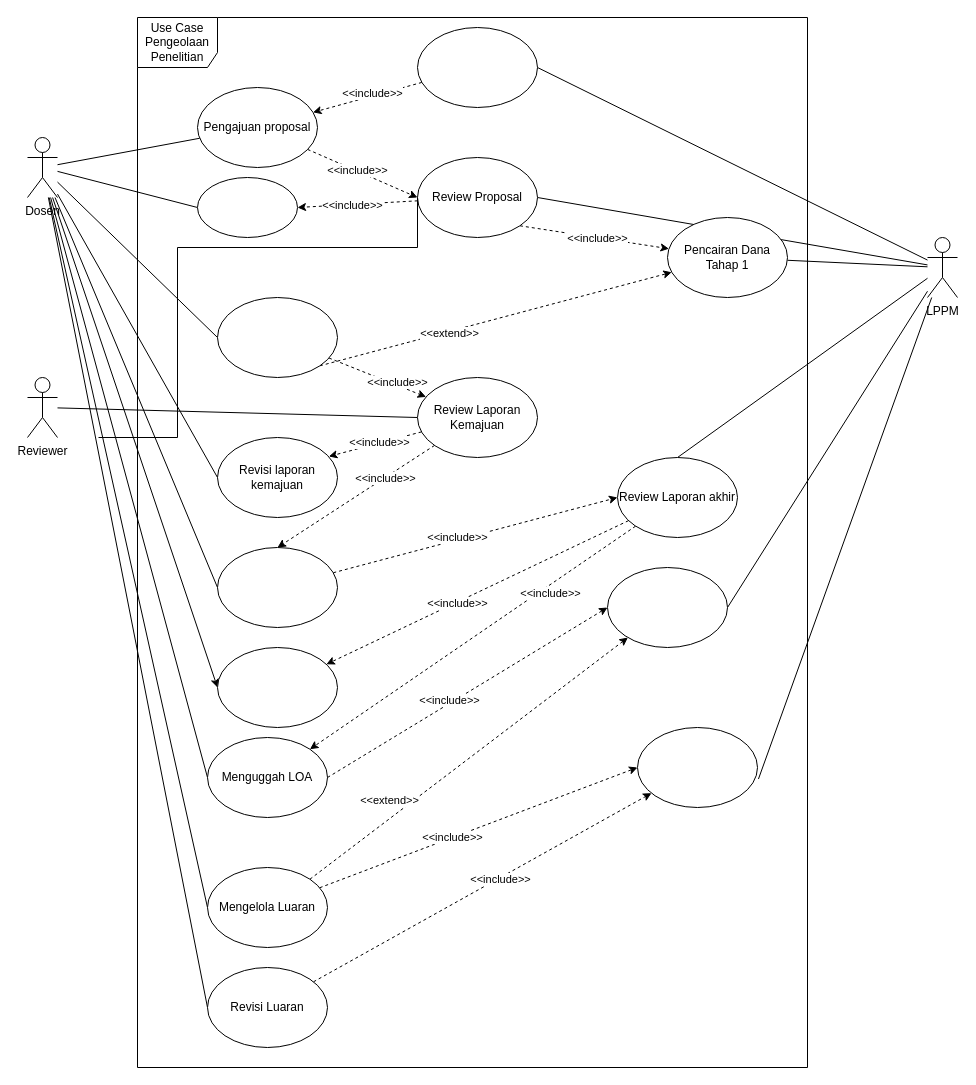
The diagram is 976 pixels wide and 1085 high, and some of its shapes have lost their labels. Each missing label, with the centre of its shape:
Login: the point at 477,67
Pencairan Dana Tahap 2: the point at 667,607
Pengajuan laporan akhir: the point at 277,587
Pengajuan laporan kemajuan: the point at 277,337
Review luaran: the point at 697,767
Revisi laporan akhir: the point at 277,687
Revisi proposal: the point at 247,207
